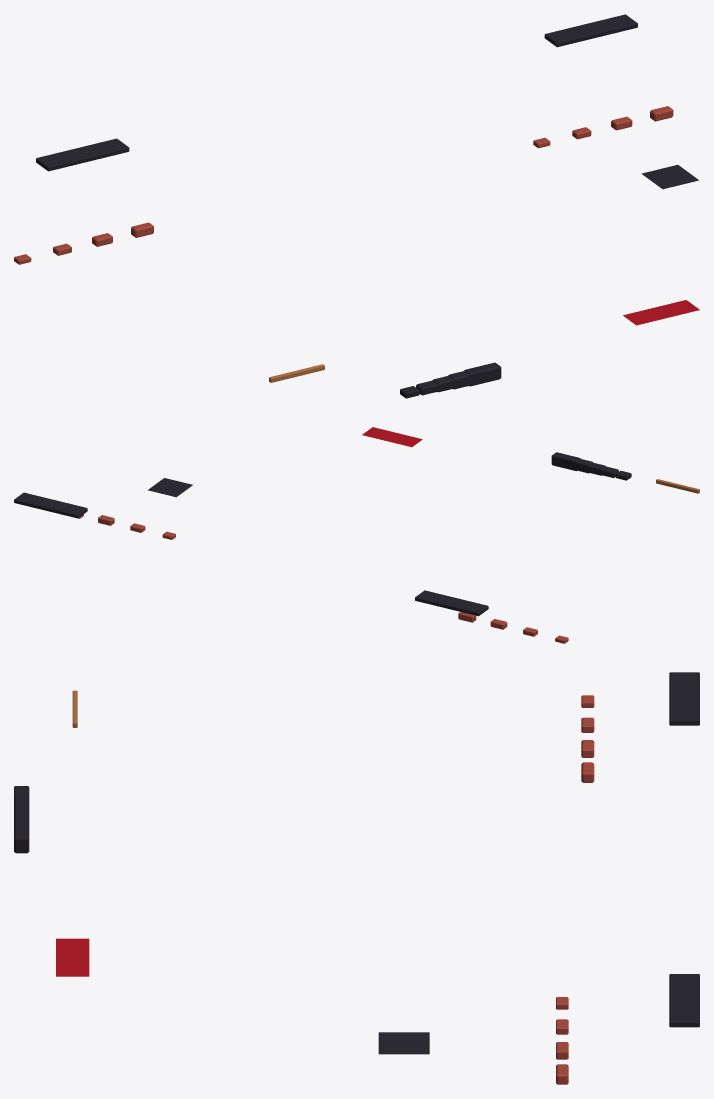
The model's file is D-ZOO.w5.glb.
The picture shows the model from 3 angles, top to bottom: view 1: azimuth 30°, elevation 25°; view 2: azimuth 150°, elevation 25°; view 3: azimuth 270°, elevation 25°; orthographic projection. The views are drawn at different scales.
Visible parts, largest first — view 1: pal_uiDark.002, pal_brick.003, pal_blood.003; view 2: pal_uiDark.002, pal_brick.003, pal_blood.003; view 3: pal_uiDark.002, pal_brick.003, pal_blood.003.
Boxes of the visible parts, x1,y1,x2,y2 form: pal_uiDark.002: [36, 14, 698, 398]; pal_brick.003: [14, 106, 673, 264]; pal_blood.003: [623, 300, 699, 325]; pal_uiDark.002: [14, 452, 631, 616]; pal_brick.003: [78, 514, 568, 643]; pal_blood.003: [362, 427, 422, 447]; pal_uiDark.002: [14, 672, 699, 1054]; pal_brick.003: [556, 695, 594, 1084]; pal_blood.003: [56, 938, 89, 976].
Size of the model in its own units: 36.1 by 3.16 by 26.9.
